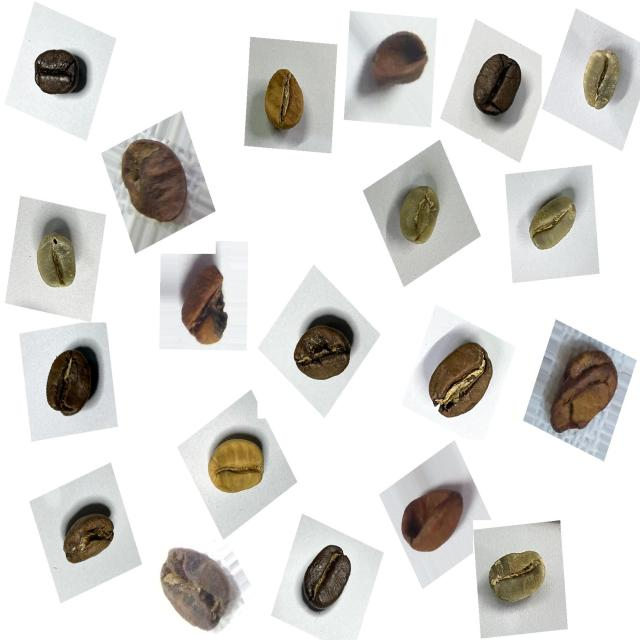bad: (537, 334, 629, 440), (112, 131, 198, 236), (153, 538, 240, 640), (394, 472, 472, 566), (171, 253, 241, 357), (360, 22, 433, 106)
dark: (282, 307, 360, 395), (291, 532, 361, 622), (464, 46, 530, 127), (23, 35, 91, 108)
green: (479, 535, 556, 617), (519, 183, 588, 266), (388, 174, 455, 258), (26, 220, 91, 304), (571, 40, 634, 124)
light: (197, 421, 273, 509), (254, 59, 319, 145)
medium: (416, 330, 502, 433), (35, 338, 106, 427), (55, 499, 124, 576)
